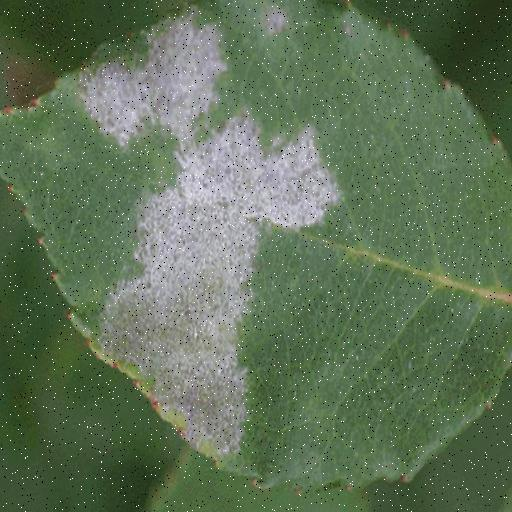powdery_mildew: (0, 0, 512, 492)
